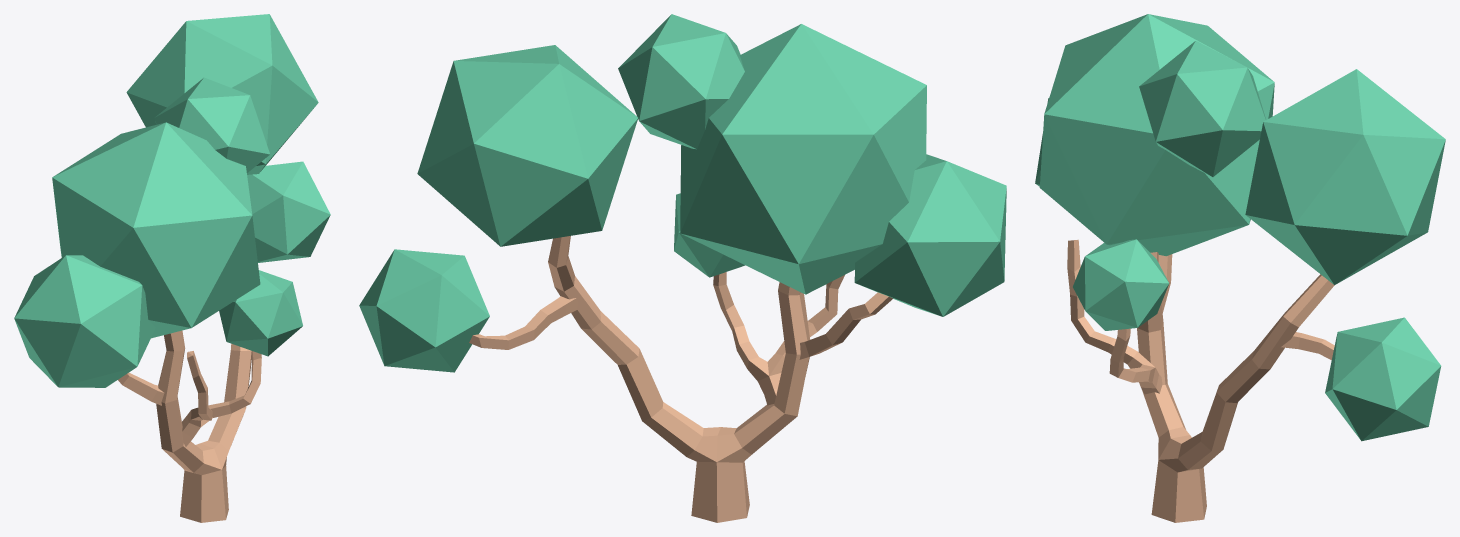
Rendered from tree-poly.glb.
3 renders of one model, left to right at view 1: azimuth 30°, elevation 25°; view 2: azimuth 150°, elevation 25°; view 3: azimuth 270°, elevation 25°, orthographic. The views are drawn at different scales.
Parts seen in each view (by area): view 1: Tree_lp_11; view 2: Tree_lp_11; view 3: Tree_lp_11.
Part boxes in pixels (x1,y1,x2,y2): Tree_lp_11: (14,14,330,522); Tree_lp_11: (359,14,1006,522); Tree_lp_11: (1035,14,1445,522).
Size of the model in its own units: 27.98 by 26.54 by 20.8.
